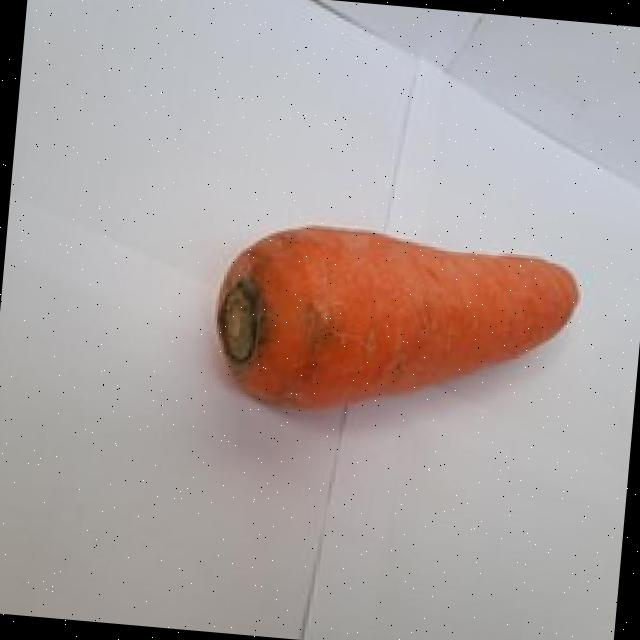carrot: (218, 226, 578, 408)
